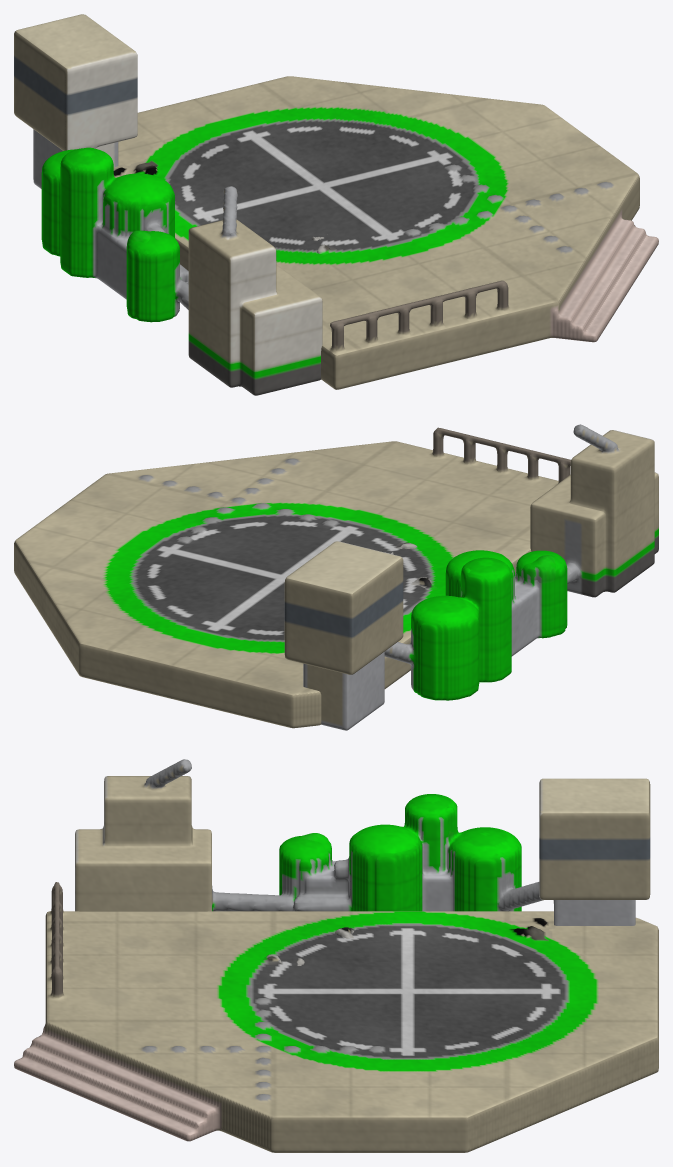
Rendered from helipad.glb.
The picture shows the model from 3 angles, top to bottom: view 1: azimuth 30°, elevation 25°; view 2: azimuth 150°, elevation 25°; view 3: azimuth 270°, elevation 25°; orthographic projection. The views are drawn at different scales.
Parts seen in each view (by area): view 1: pad, helipad, pad-damaged, helipad-damaged; view 2: pad, helipad, helipad-damaged; view 3: pad, helipad, pad-damaged, helipad-damaged.
Part boxes in pixels (x1,y1,x2,y2): pad: (118, 76, 658, 389); helipad: (14, 14, 322, 395); pad-damaged: (113, 158, 337, 254); helipad-damaged: (53, 55, 152, 266); pad: (14, 427, 570, 728); helipad: (284, 424, 658, 730); helipad-damaged: (285, 553, 555, 639); pad: (14, 882, 658, 1152); helipad: (75, 759, 650, 925); pad-damaged: (222, 915, 555, 975); helipad-damaged: (281, 806, 642, 875).
Size of the model in its own units: 1.88 by 0.5962 by 2.07.
